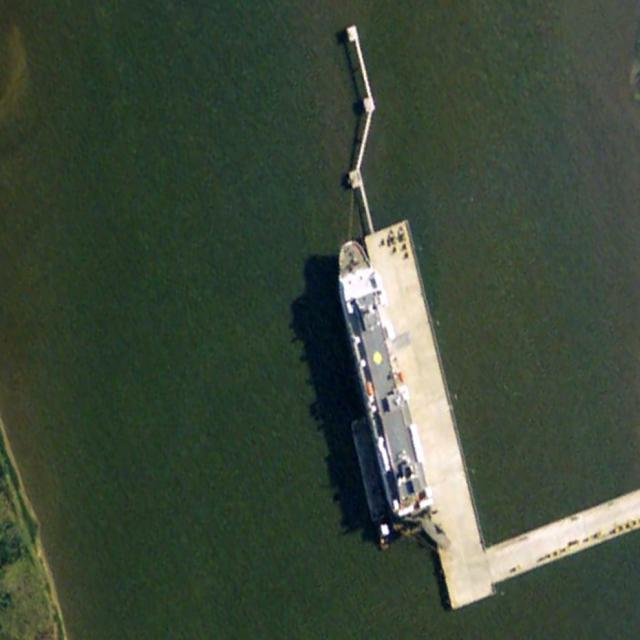RoRo: (330, 230, 435, 521)
